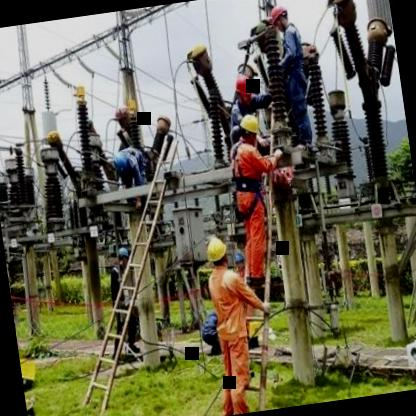helmet: (203, 235, 231, 273), (236, 108, 262, 148), (230, 70, 258, 106), (268, 3, 292, 36), (113, 245, 131, 270), (230, 249, 245, 274)
